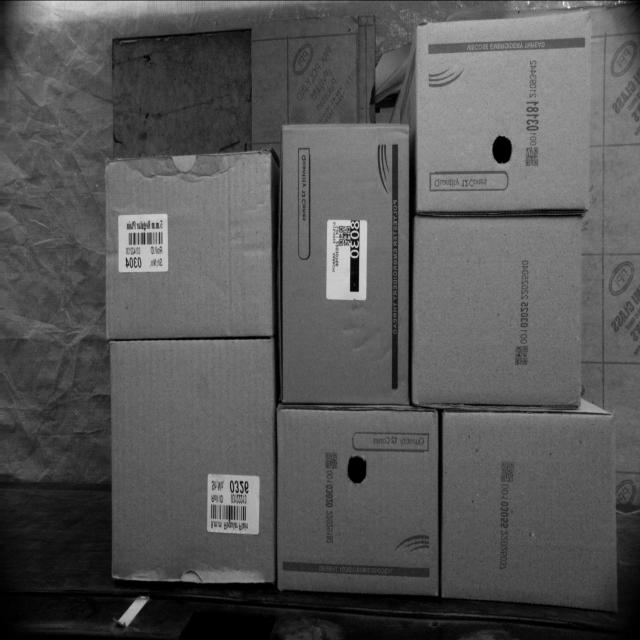cardboxes: (110, 340, 272, 583), (278, 123, 411, 409), (415, 9, 590, 212), (441, 411, 615, 614), (410, 216, 582, 408), (106, 147, 270, 341), (276, 407, 442, 592)
